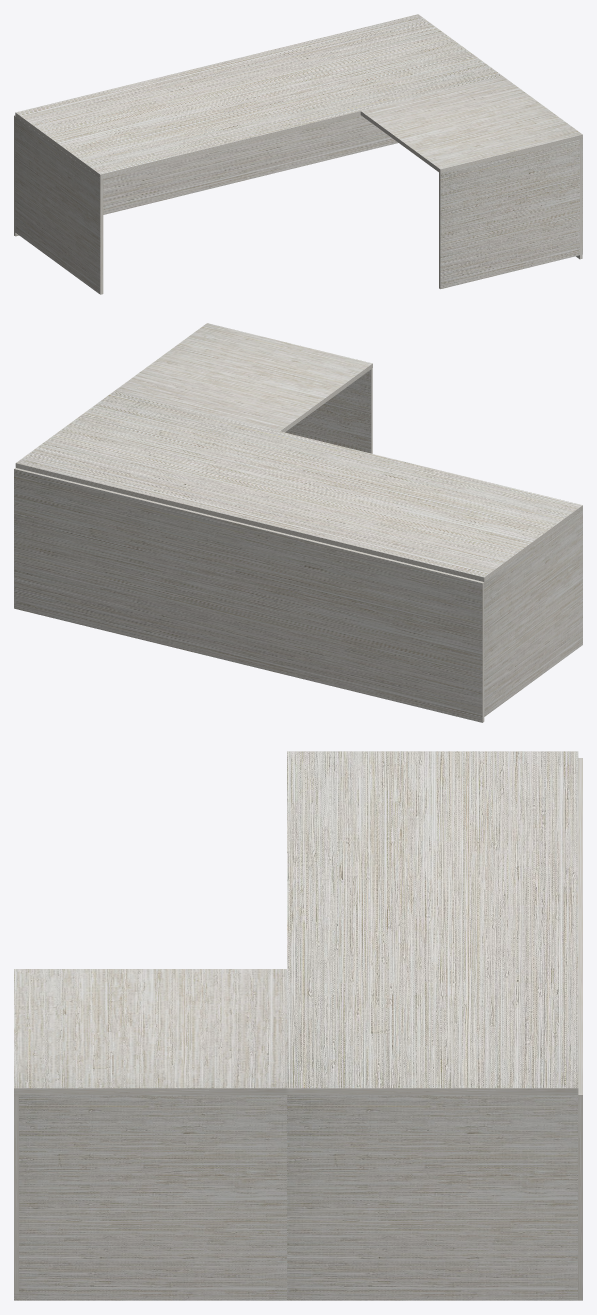
Rendered from paredes.obj.
The picture shows the model from 3 angles, top to bottom: view 1: azimuth 30°, elevation 25°; view 2: azimuth 150°, elevation 25°; view 3: azimuth 270°, elevation 25°; orthographic projection. The views are drawn at different scales.
Visible parts, largest first — view 1: paredes; view 2: paredes; view 3: paredes.
Boxes of the visible parts, bbox=[...] form: paredes: bbox=[14, 14, 582, 294]; paredes: bbox=[14, 323, 582, 722]; paredes: bbox=[14, 751, 582, 1300].
Bounding box in the file's own units: 205 × 60.41 × 147.
Materials: 2 (2 with a texture image).
